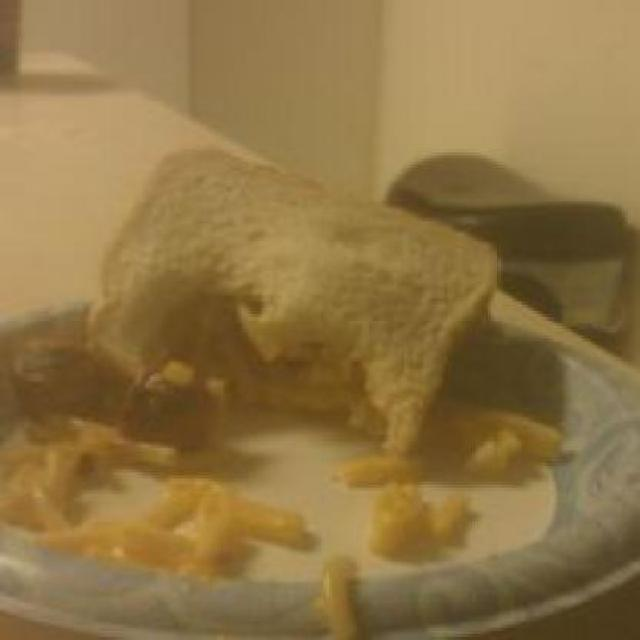hot dog: (5, 314, 208, 432)
macaroni and cheese: (310, 391, 568, 637)
